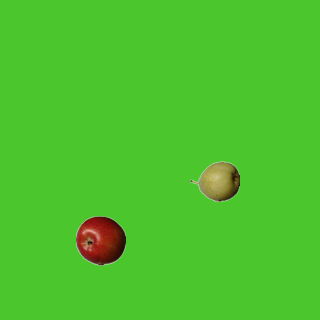Apple Braeburn: (75, 215, 125, 265)
Pear: (189, 156, 239, 206)
